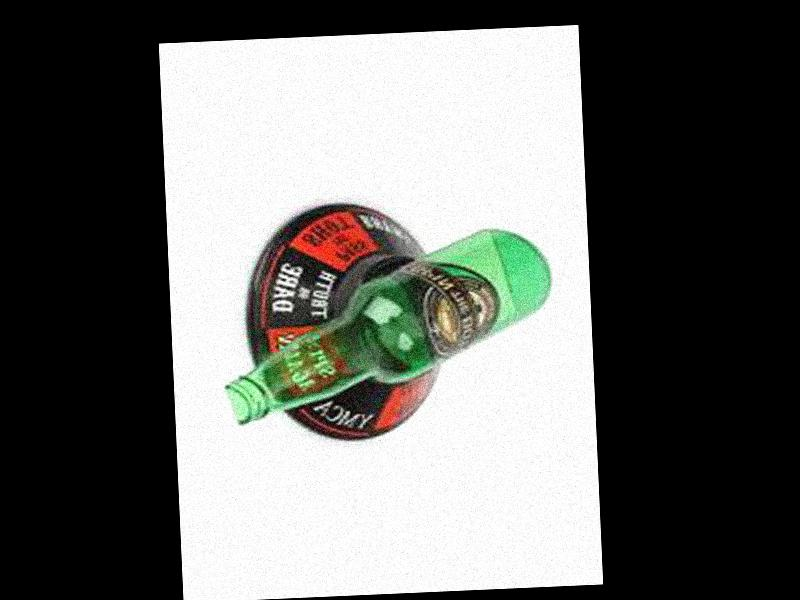Beer: (218, 224, 556, 423)
